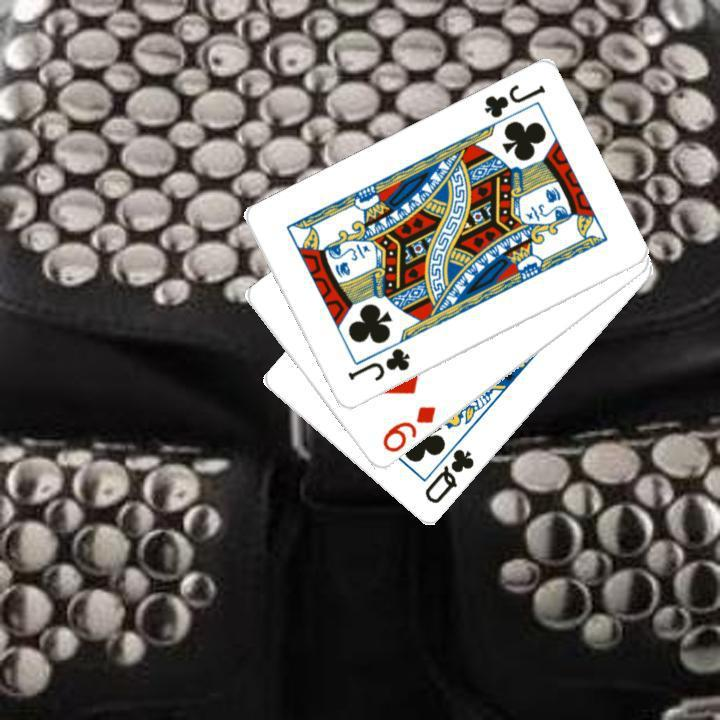9: (377, 402, 438, 456)
J: (479, 80, 548, 121), (343, 344, 412, 384)
Q: (419, 444, 477, 507)
